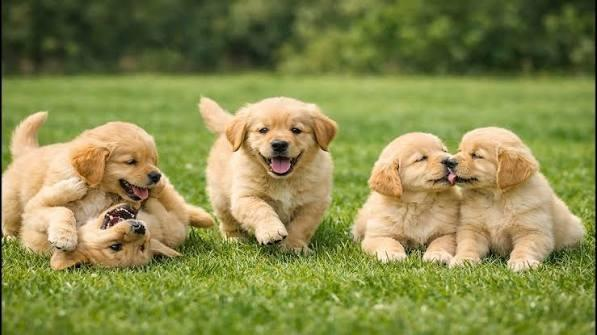puppy-dog: (2, 110, 164, 250), (197, 94, 339, 251), (447, 126, 586, 269), (23, 172, 216, 272), (355, 132, 464, 265)
